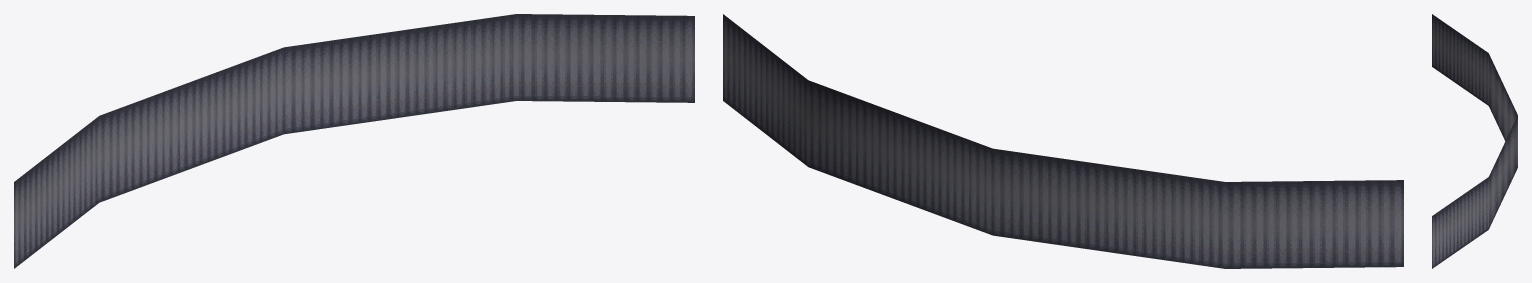
File: yt1300_engine_s01_l1.fbx
3 views of the same model, side by side, from view 1: azimuth 30°, elevation 25°; view 2: azimuth 150°, elevation 25°; view 3: azimuth 270°, elevation 25° (orthographic). The views are drawn at different scales.
Parts seen in each view (by area): view 1: mesh_node; view 2: mesh_node; view 3: mesh_node.
Boxes of the visible parts, left/top/right/bottom form: mesh_node: left=14, top=14, right=694, bottom=268; mesh_node: left=723, top=14, right=1403, bottom=268; mesh_node: left=1432, top=14, right=1517, bottom=268.
Size of the model in its own units: 17.69 by 2.16 by 3.17.
1 material, 1 textured.
